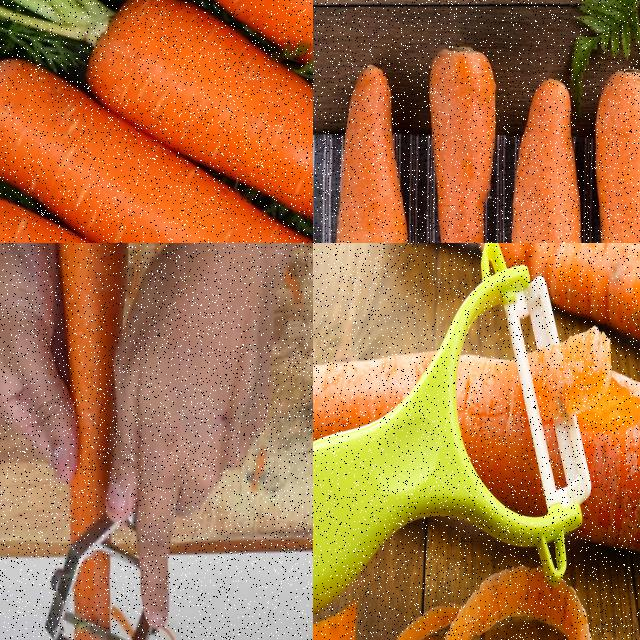carrot: (313, 349, 639, 555), (0, 50, 312, 242), (79, 0, 312, 242), (162, 0, 312, 242), (66, 243, 130, 639), (477, 243, 639, 371), (0, 183, 312, 242), (329, 62, 411, 242), (427, 45, 501, 242), (503, 78, 586, 242), (591, 66, 639, 242)
